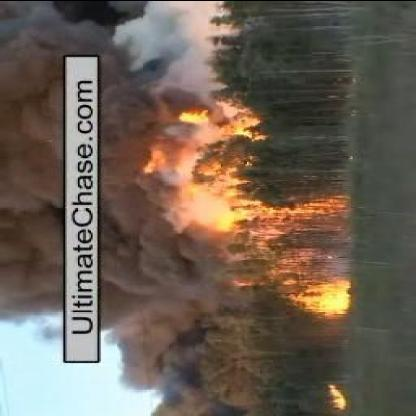-: (102, 123, 188, 383), (12, 30, 60, 320), (105, 11, 207, 107)
foggia-v2-map80-epoch100 - v1 4323: (304, 280, 348, 314), (326, 384, 348, 407)
